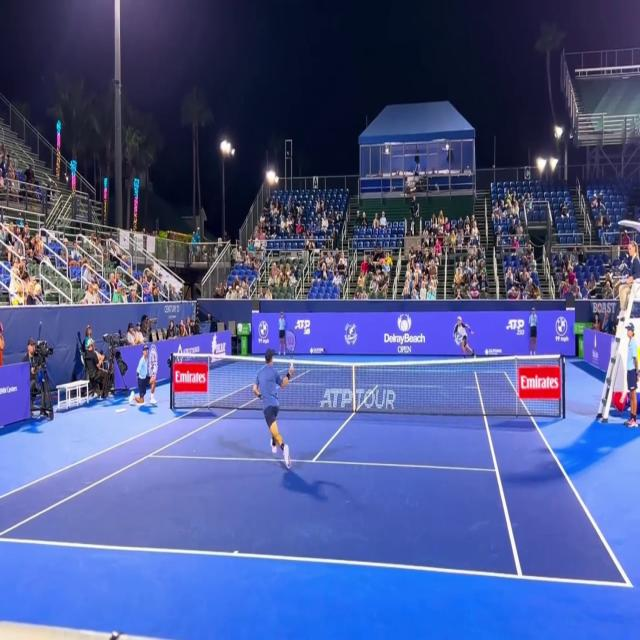tennisBall: (304, 326, 313, 340)
